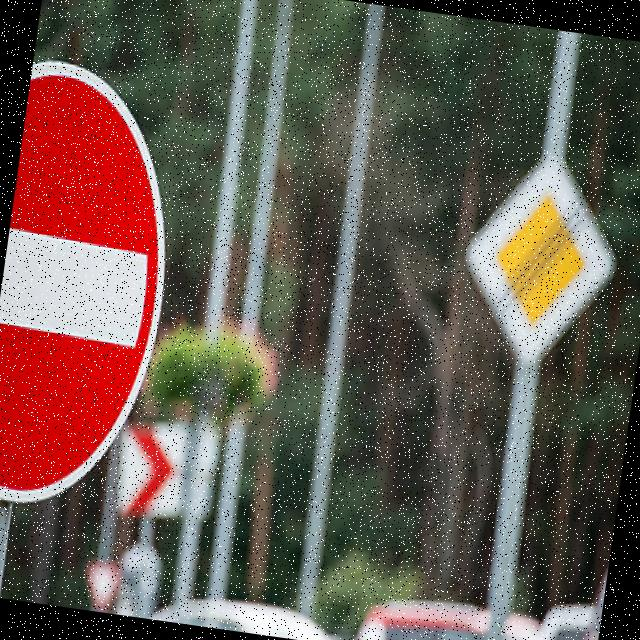do_not_enter: (0, 47, 199, 518)
